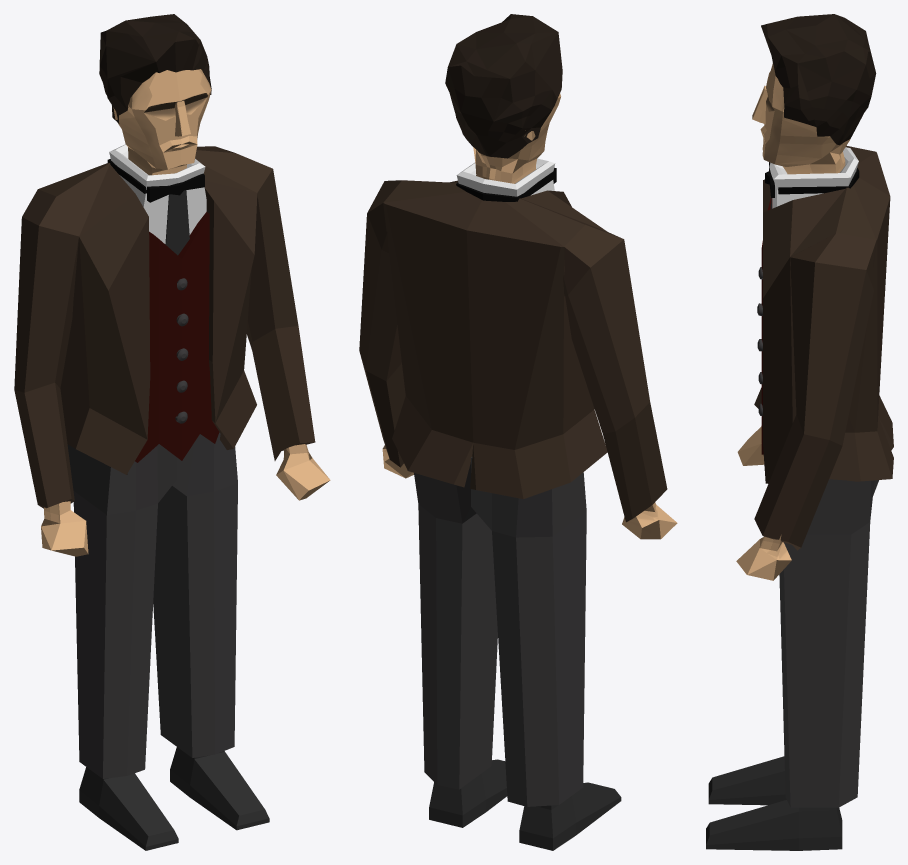
File: William.fbx
3 renders of one model, left to right at view 1: azimuth 30°, elevation 25°; view 2: azimuth 150°, elevation 25°; view 3: azimuth 270°, elevation 25°, orthographic. The views are drawn at different scales.
Parts seen in each view (by area): view 1: Nohy, Kabat, RukaPrav, Vesticka, RukaLeva, Hlava, Vlasy, ChodidloLeve, ChodidloPrave, Krk, DlanPrava, DlanPrava001 (+2 smaller); view 2: Kabat, Nohy, RukaPrav, Vlasy, RukaLeva, ChodidloPrave, ChodidloLeve, Hlava, Krk, DlanPrava, Motylek; view 3: Nohy, Kabat, RukaLeva, Vlasy, ChodidloLeve, Hlava, ChodidloPrave, Krk, DlanPrava001, Motylek, DlanPrava, Vesticka.
Boxes of the visible parts, left/top/right/bottom form: Nohy: left=67, top=432, right=237, bottom=778; Kabat: left=38, top=146, right=257, bottom=474; RukaPrav: left=14, top=189, right=78, bottom=508; Vesticka: left=135, top=211, right=219, bottom=462; RukaLeva: left=226, top=150, right=315, bottom=460; Hlava: left=113, top=69, right=211, bottom=175; Vlasy: left=99, top=14, right=211, bottom=123; ChodidloLeve: left=170, top=747, right=269, bottom=830; ChodidloPrave: left=79, top=767, right=178, bottom=850; Krk: left=109, top=144, right=206, bottom=243; DlanPrava: left=41, top=501, right=88, bottom=556; DlanPrava001: left=276, top=444, right=330, bottom=500; Kabat: left=383, top=180, right=607, bottom=499; Nohy: left=414, top=457, right=586, bottom=806; RukaPrav: left=563, top=225, right=667, bottom=522; Vlasy: left=445, top=14, right=562, bottom=158; RukaLeva: left=359, top=180, right=405, bottom=467; ChodidloPrave: left=519, top=782, right=621, bottom=850; ChodidloLeve: left=429, top=759, right=507, bottom=827; Hlava: left=473, top=93, right=560, bottom=183; Krk: left=456, top=158, right=555, bottom=196; DlanPrava: left=622, top=502, right=677, bottom=539; Motylek: left=456, top=167, right=556, bottom=201; Nohy: left=779, top=479, right=878, bottom=807; Kabat: left=763, top=146, right=893, bottom=483; RukaLeva: left=754, top=233, right=876, bottom=550; Vlasy: left=761, top=14, right=876, bottom=145; ChodidloLeve: left=706, top=800, right=842, bottom=850; Hlava: left=752, top=63, right=850, bottom=174; ChodidloPrave: left=708, top=756, right=786, bottom=805; Krk: left=769, top=147, right=858, bottom=208; DlanPrava001: left=736, top=534, right=791, bottom=580; Motylek: left=765, top=162, right=859, bottom=197; DlanPrava: left=737, top=426, right=764, bottom=465; Vesticka: left=761, top=198, right=772, bottom=454.
Size of the model in its own units: 361 by 962 by 206.
Materials: 7 (1 with a texture image).
